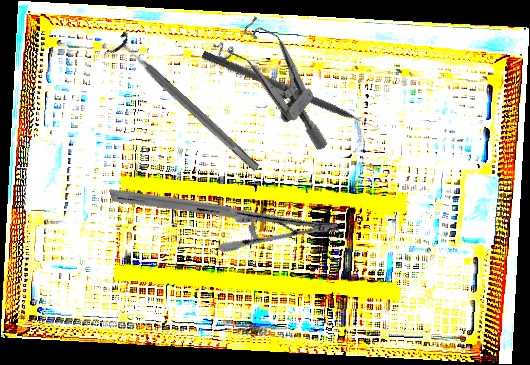Fixation Ring: (105, 30, 267, 180)
Needle Holder: (108, 118, 341, 305)
Pusher: (200, 49, 382, 136)
Speculum: (203, 6, 362, 153)
